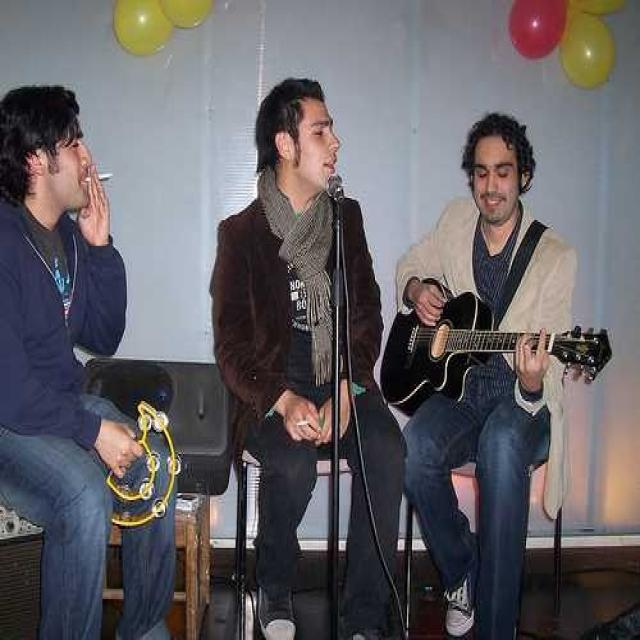microphone: (324, 170, 344, 223)
